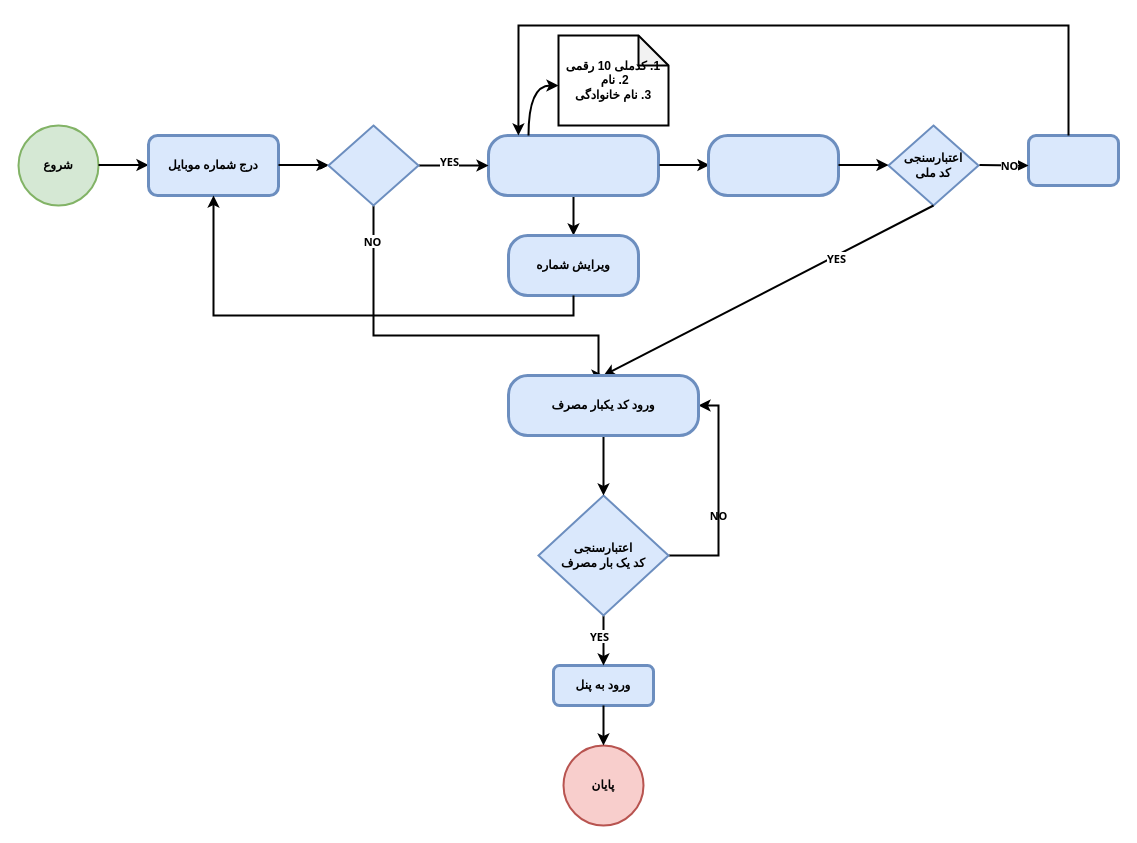
Some shapes in this 1137 by 843 pixel diagram are drawn without their labels. Each missing label, with the box of its shape:
بررسی مشخصات: (706, 134, 840, 196)
دریافت اطلاعات حساب کاربری: (486, 134, 660, 196)
نمایش ارور: (1026, 134, 1120, 186)
کاربر جدید: (327, 124, 419, 206)
